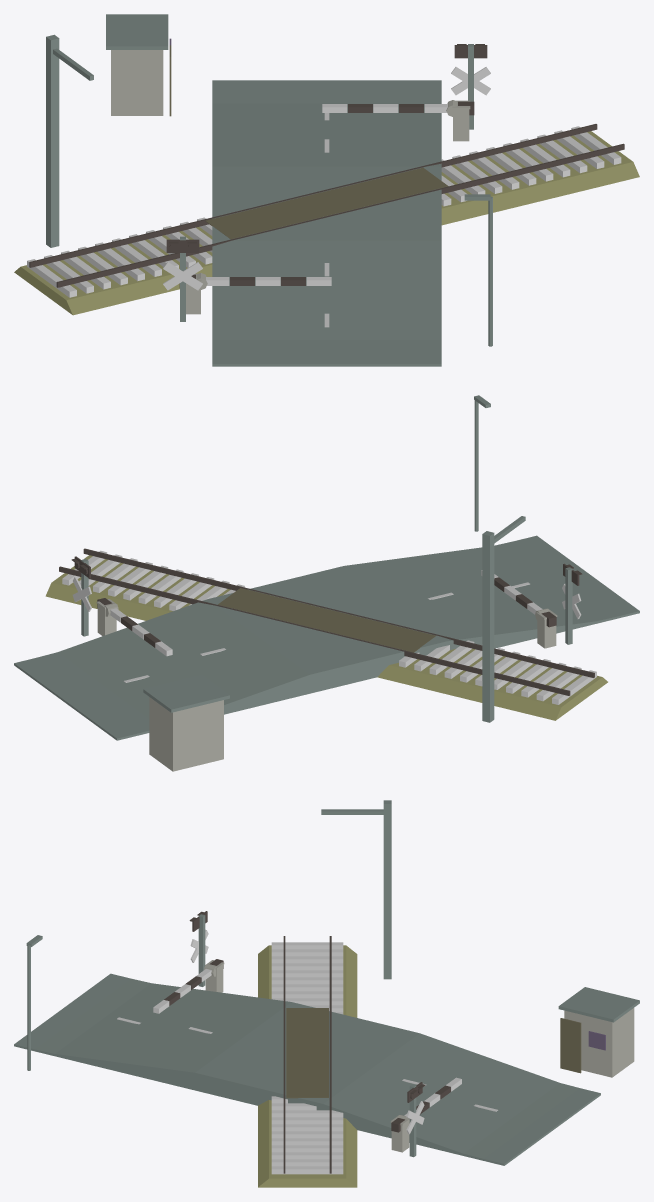
File: SM_PasoNivel_60E_v4_Catenaria_LOD0.fbx
3 renders of one model, top to bottom at view 1: azimuth 30°, elevation 25°; view 2: azimuth 150°, elevation 25°; view 3: azimuth 270°, elevation 25°, orthographic. The views are drawn at different scales.
Parts seen in each view (by area): view 1: SM_paso_nivel_kit_v29_LOD0, Barrera_1, Barrera_2; view 2: SM_paso_nivel_kit_v29_LOD0, Barrera_1, Barrera_2; view 3: SM_paso_nivel_kit_v29_LOD0, Barrera_2, Barrera_1.
Boxes of the visible parts, box(x1,y1,x2,y2) form: SM_paso_nivel_kit_v29_LOD0: box(14, 14, 639, 366); Barrera_1: box(322, 100, 474, 116); Barrera_2: box(179, 273, 331, 289); SM_paso_nivel_kit_v29_LOD0: box(14, 395, 639, 771); Barrera_1: box(97, 598, 172, 656); Barrera_2: box(481, 570, 556, 627); SM_paso_nivel_kit_v29_LOD0: box(14, 800, 639, 1187); Barrera_2: box(153, 959, 223, 1013); Barrera_1: box(391, 1077, 461, 1132).
Size of the model in its own units: 20 by 7 by 22.66.
